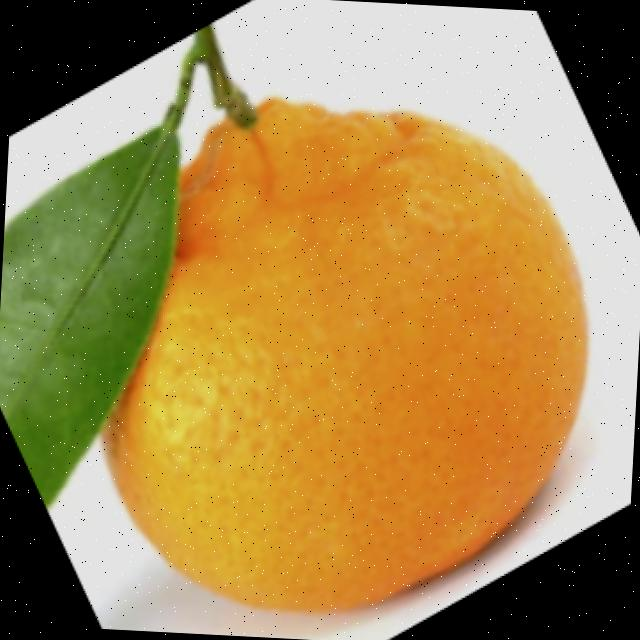orange: (85, 81, 602, 628)
